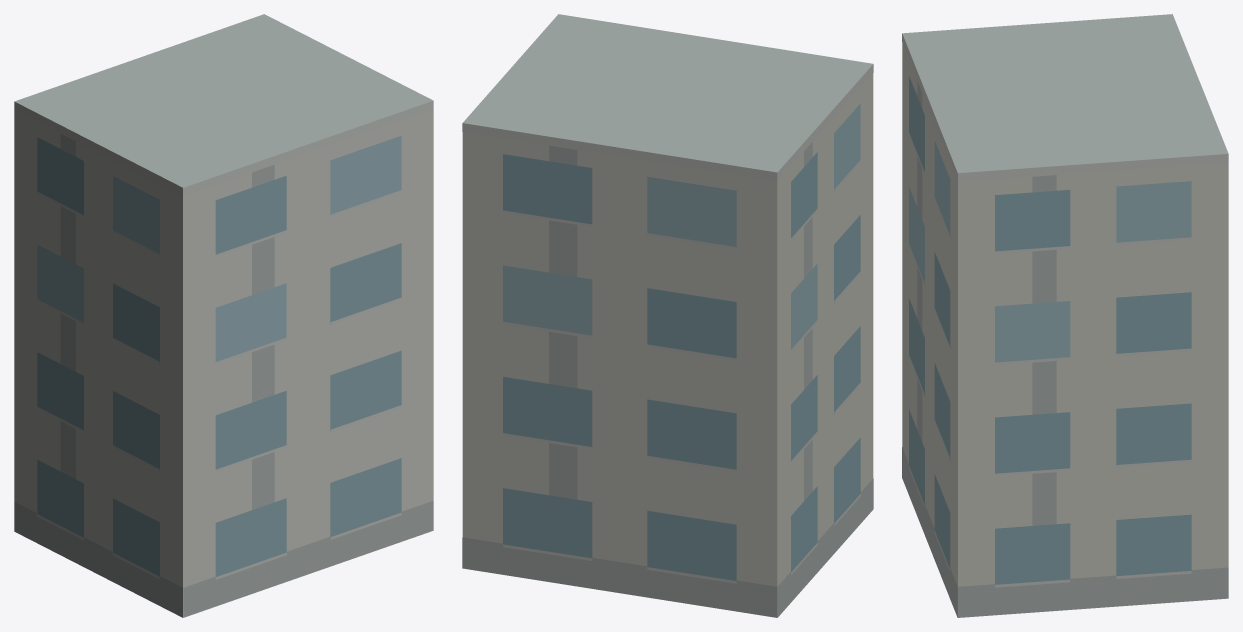
Rendered from residential-6361a245-af1a-4ad7-a18a-eee5833e64c0.glb.
The picture shows the model from 3 angles, left to right: view 1: azimuth 30°, elevation 25°; view 2: azimuth 150°, elevation 25°; view 3: azimuth 270°, elevation 25°; orthographic projection. The views are drawn at different scales.
Visible parts, largest first — view 1: residential-6361a245-af1a-4ad7-a18a-eee5833e64c0.tmp; view 2: residential-6361a245-af1a-4ad7-a18a-eee5833e64c0.tmp; view 3: residential-6361a245-af1a-4ad7-a18a-eee5833e64c0.tmp.
Boxes of the visible parts, x1,y1,x2,y2 form: residential-6361a245-af1a-4ad7-a18a-eee5833e64c0.tmp: (14,14,433,617); residential-6361a245-af1a-4ad7-a18a-eee5833e64c0.tmp: (462,14,873,617); residential-6361a245-af1a-4ad7-a18a-eee5833e64c0.tmp: (902,14,1228,617).
Size of the model in its own units: 9.38 by 12.2 by 8.13.
